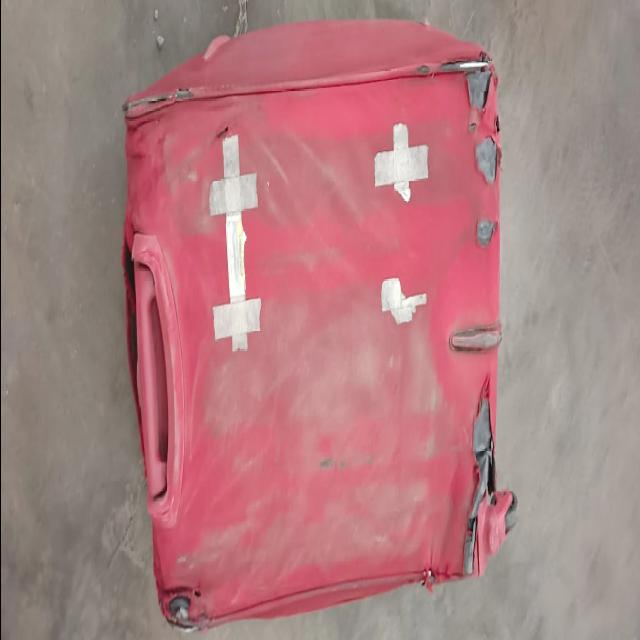Damage-bag: (446, 378, 516, 575), (418, 56, 494, 131), (122, 67, 199, 122), (121, 236, 140, 428), (161, 586, 209, 633), (474, 114, 500, 183), (449, 322, 501, 356), (183, 36, 234, 67), (475, 219, 496, 247), (421, 567, 442, 589), (212, 114, 230, 139)
